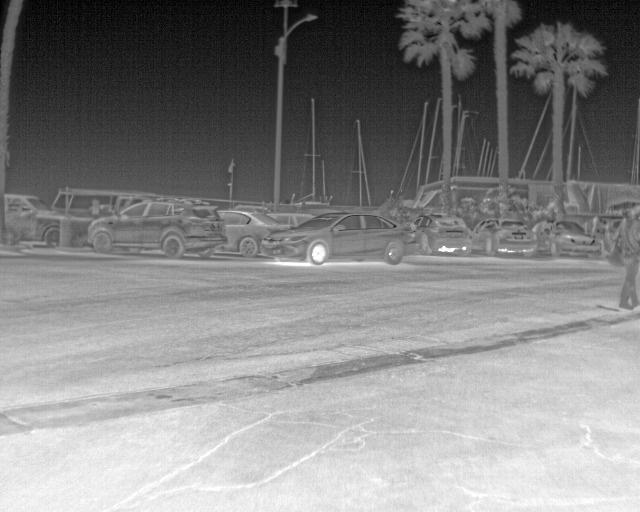bicycle: (88, 195, 226, 253), (270, 211, 410, 262), (213, 209, 287, 255), (5, 190, 60, 249), (411, 211, 470, 257), (472, 217, 534, 259), (533, 221, 598, 260), (48, 188, 125, 218), (267, 212, 310, 225)
empty: (614, 203, 638, 310)
